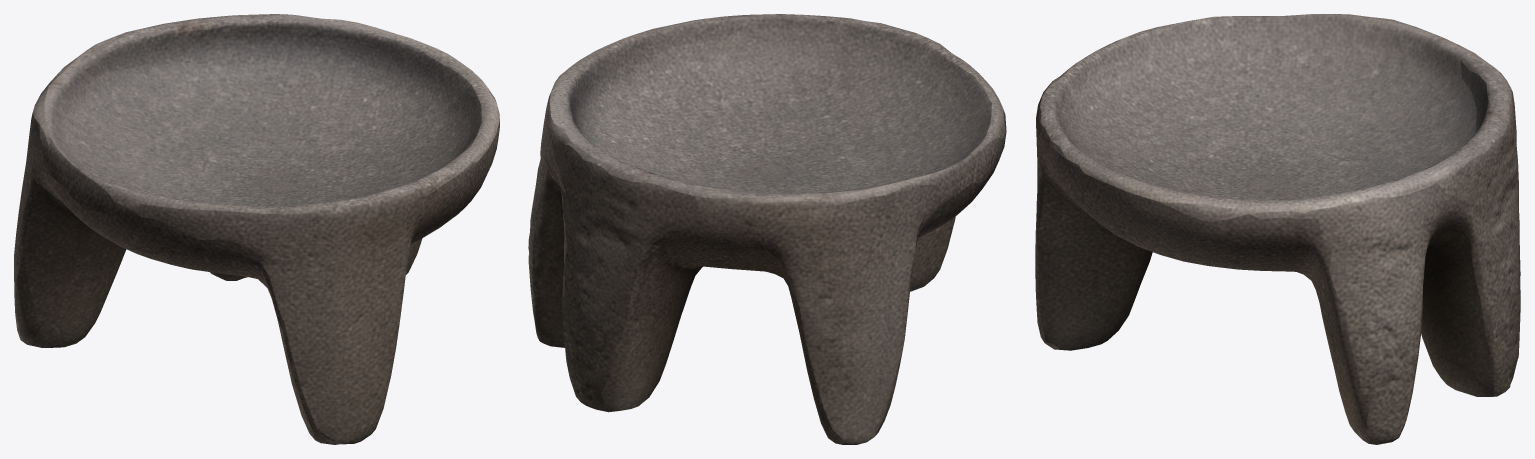
The picture shows the model from 3 angles, left to right: view 1: azimuth 30°, elevation 25°; view 2: azimuth 150°, elevation 25°; view 3: azimuth 270°, elevation 25°; orthographic projection. The views are drawn at different scales.
Visible parts, largest first — view 1: world; view 2: world; view 3: world.
Part boxes in pixels (x1,y1,x2,y2): world: (14, 14, 499, 444); world: (528, 14, 1006, 444); world: (1035, 14, 1520, 444).
Bounding box in the file's own units: 0.32 × 0.1895 × 0.3264.
Materials: 1 (1 with a texture image).
